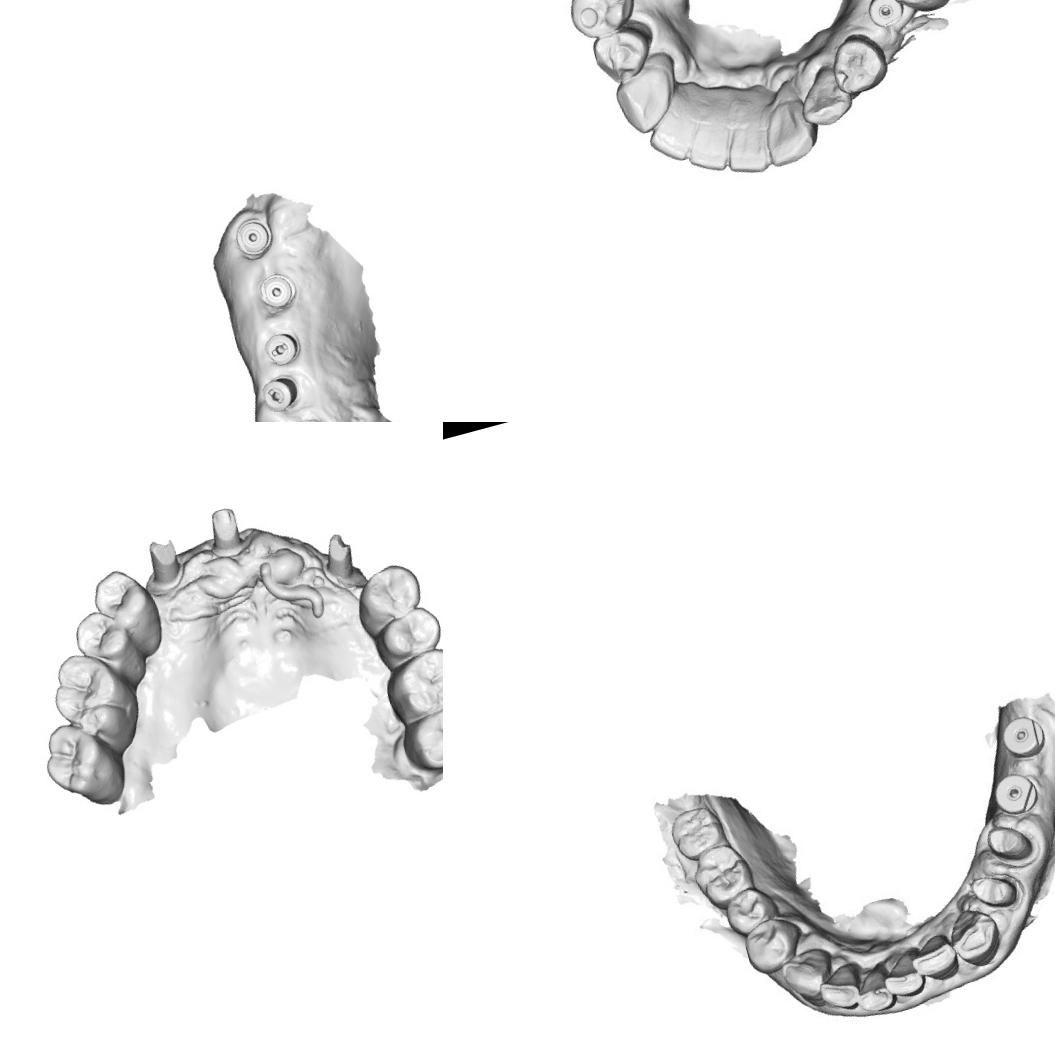abutment: (134, 531, 190, 598), (312, 528, 365, 596), (199, 503, 251, 562)
canine: (603, 51, 690, 139), (768, 940, 840, 1012), (793, 62, 856, 130), (945, 902, 1006, 970)
crown: (965, 869, 1020, 912), (981, 820, 1032, 866)
implant: (996, 713, 1048, 761), (992, 770, 1043, 818), (229, 212, 276, 260), (254, 268, 300, 312), (860, 0, 910, 36)
implant_minus: (256, 372, 303, 416), (259, 327, 303, 370)
incisor: (749, 90, 821, 172), (714, 100, 778, 180), (644, 103, 705, 167), (675, 110, 733, 176), (816, 958, 870, 1015), (910, 929, 961, 983), (878, 946, 929, 1000), (855, 960, 902, 1014)
molar: (42, 641, 148, 758), (35, 712, 132, 818), (377, 642, 443, 727), (689, 842, 758, 910), (395, 701, 443, 776), (667, 802, 724, 859), (874, 0, 970, 25)
premolar: (85, 560, 166, 653), (346, 558, 431, 639), (68, 602, 146, 690), (578, 15, 662, 86), (367, 601, 443, 674), (823, 26, 894, 102), (739, 914, 804, 976), (560, 0, 637, 44), (721, 884, 774, 932)
